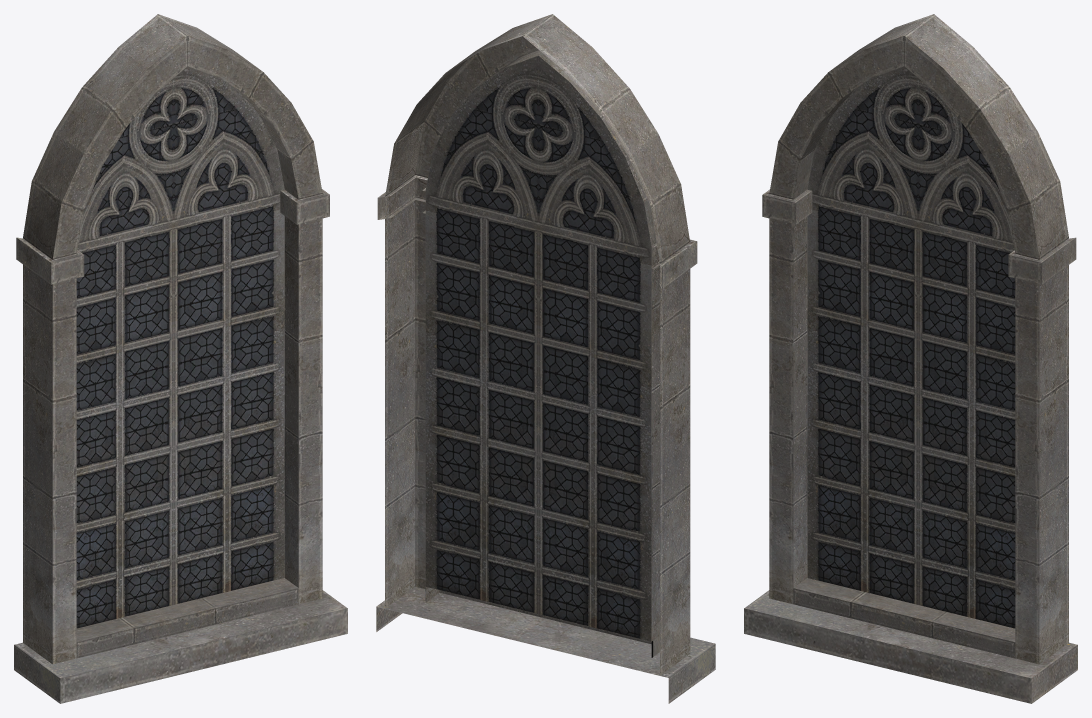
File: bg_lut_lucastle_housewindow05_sm_sup.FBX
3 views of the same model, side by side, from view 1: azimuth 30°, elevation 25°; view 2: azimuth 150°, elevation 25°; view 3: azimuth 330°, elevation 25° (orthographic).
Visible parts, largest first — view 1: bg_lut_lucastle_housewindow05_sm_sup; view 2: bg_lut_lucastle_housewindow05_sm_sup; view 3: bg_lut_lucastle_housewindow05_sm_sup.
Part boxes in pixels (<box>): bg_lut_lucastle_housewindow05_sm_sup: <box>14,14,347,703</box>; bg_lut_lucastle_housewindow05_sm_sup: <box>376,14,715,703</box>; bg_lut_lucastle_housewindow05_sm_sup: <box>744,14,1077,703</box>.
Bounding box in the file's own units: 114 × 236 × 33.46.
